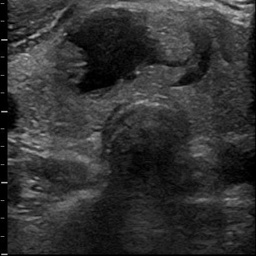mass: (53, 13, 170, 89)
